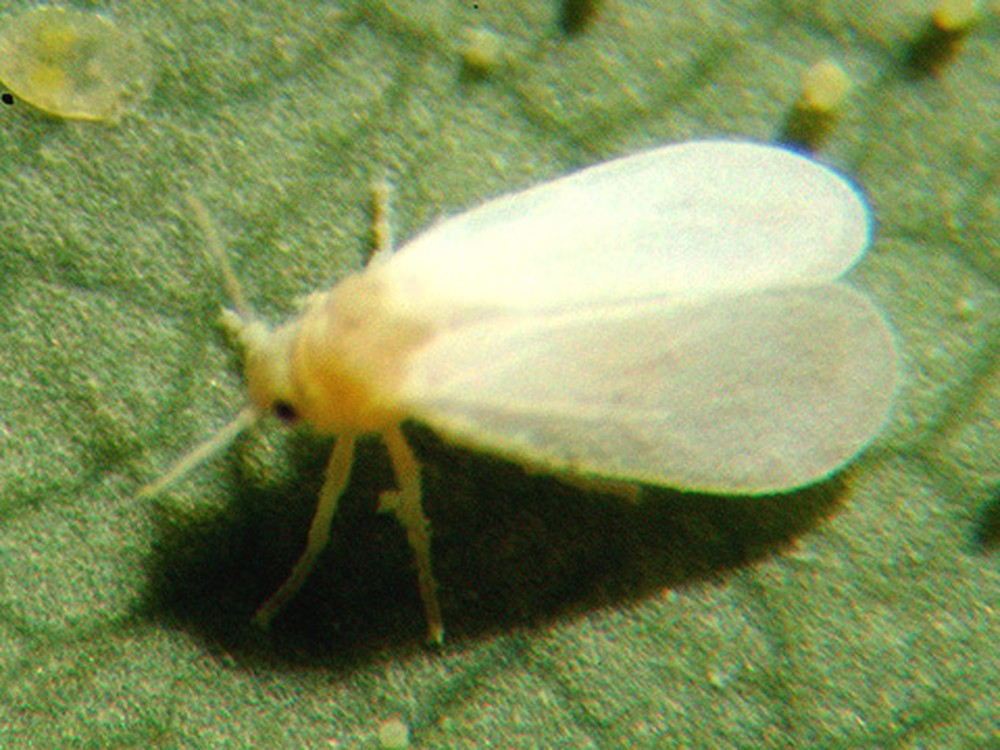Mosca Blanca: (138, 126, 927, 670)
